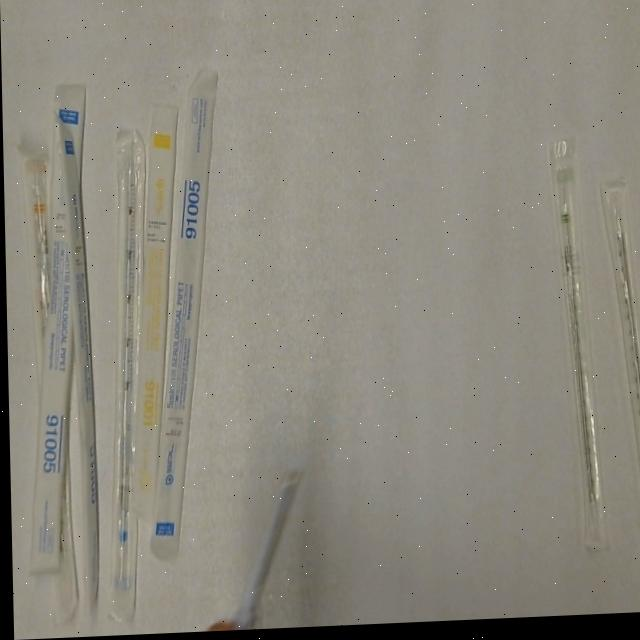Serelogical Pipet 1 mL - Sealed: (119, 102, 188, 527)
Serelogical Pipet 10 mL - Sealed: (17, 140, 62, 392)
Serelogical Pipet 2 mL - Sealed: (547, 139, 610, 565)
Serelogical Pipet 5 mL - Sealed: (137, 68, 230, 562), (15, 80, 97, 576), (94, 128, 156, 628), (52, 107, 103, 618)
